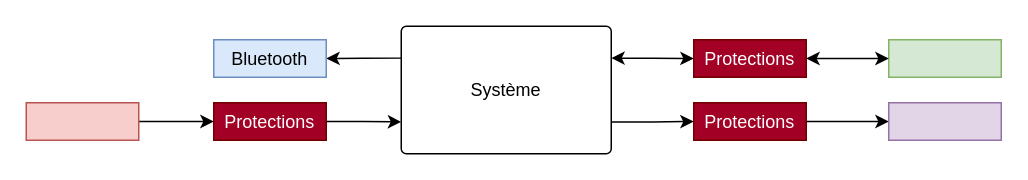
Some shapes in this 1028 by 180 pixel diagram are drawn without their labels. The shapes that lost their labels are listed below. From the top down, each one's centre as x and y in pixels, then its label:
At (x=944, y=57): "Carte SD".
At (x=82, y=120): "Port USB-C".
At (x=944, y=120): "Jack 3.5 mm".
